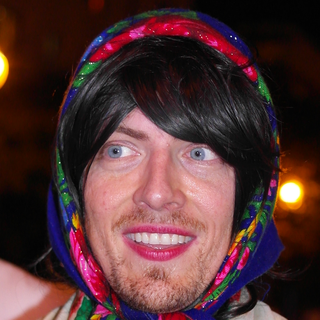eye: (178, 141, 228, 167), (91, 141, 144, 165)
